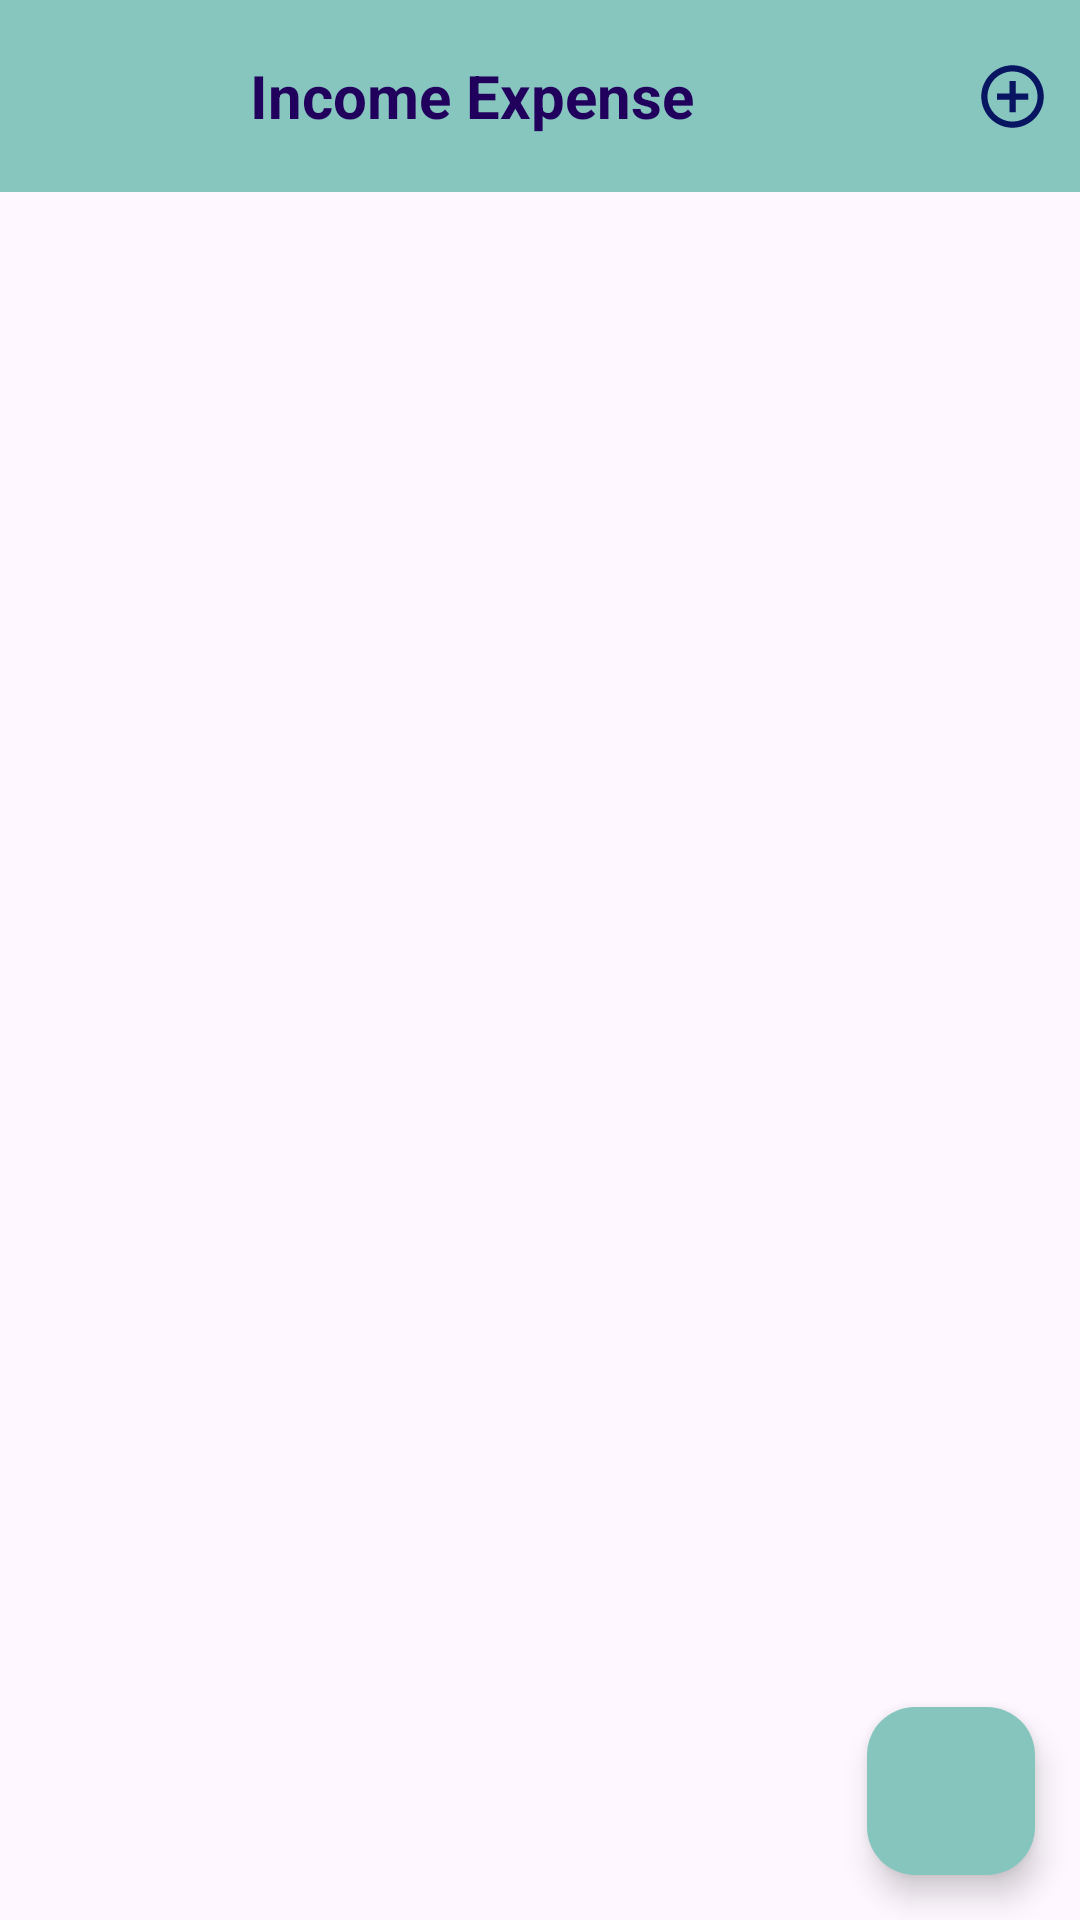

Point at icon controls on the screen. Image size 1080x1920, points as (x=x, y=y).
add circle: (x=1012, y=96)
